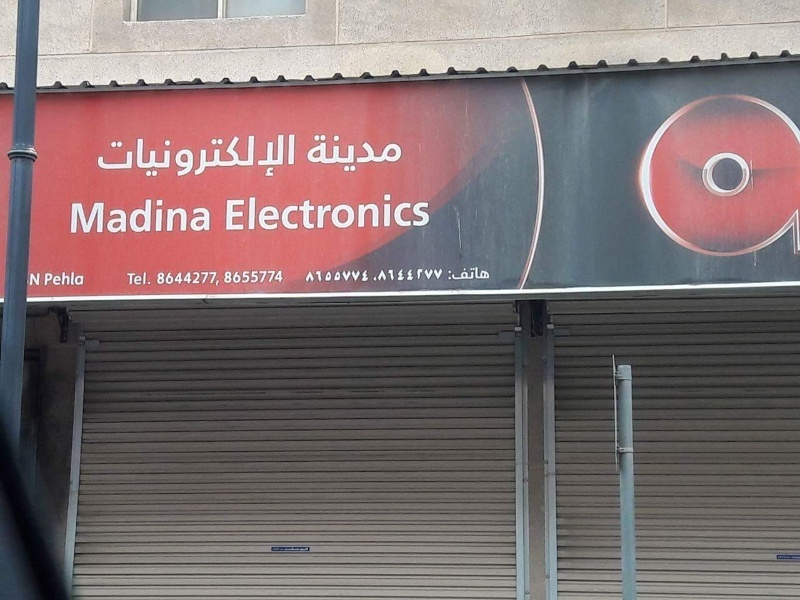text: (97, 132, 112, 179), (113, 132, 128, 179), (129, 132, 144, 179), (145, 132, 160, 179), (161, 132, 176, 179), (177, 132, 192, 179), (193, 132, 208, 179), (209, 132, 224, 179), (225, 132, 240, 179), (241, 132, 256, 179), (257, 132, 272, 179), (273, 132, 288, 179), (417, 193, 433, 235), (225, 193, 240, 235), (241, 193, 256, 235), (257, 193, 272, 235), (273, 193, 288, 235), (289, 193, 304, 235), (305, 193, 320, 235), (321, 193, 336, 235), (337, 193, 352, 235), (353, 193, 368, 235), (369, 193, 384, 235), (385, 193, 400, 235), (401, 193, 416, 235), (321, 132, 336, 173), (337, 132, 352, 173), (353, 132, 368, 173), (369, 132, 384, 173), (385, 132, 400, 173), (81, 199, 96, 236), (97, 199, 112, 236), (113, 199, 128, 236), (129, 199, 144, 236), (145, 199, 160, 236), (161, 199, 176, 236), (177, 199, 192, 236), (193, 199, 208, 236), (307, 132, 320, 173), (69, 199, 80, 236), (289, 132, 297, 179), (49, 271, 64, 287), (65, 271, 80, 287), (449, 266, 464, 282), (465, 266, 480, 282), (161, 272, 176, 287), (177, 272, 192, 287), (193, 272, 208, 287), (129, 271, 144, 286), (225, 269, 240, 284), (241, 269, 256, 284), (257, 269, 272, 284), (353, 270, 369, 284), (305, 270, 320, 284), (321, 270, 336, 284), (337, 270, 352, 284), (385, 269, 400, 282), (401, 269, 416, 282), (417, 269, 432, 282), (209, 272, 221, 287), (273, 269, 285, 284), (481, 266, 491, 282), (433, 269, 444, 282), (33, 272, 41, 287), (145, 271, 153, 286), (375, 269, 384, 282), (401, 132, 403, 173), (81, 271, 86, 287), (273, 547, 288, 552), (289, 547, 304, 552), (209, 199, 211, 236), (785, 556, 799, 561), (44, 271, 48, 287), (157, 272, 160, 287), (29, 272, 32, 287), (126, 271, 128, 286), (222, 269, 224, 284), (305, 547, 311, 552), (779, 556, 784, 561), (447, 266, 448, 282)
